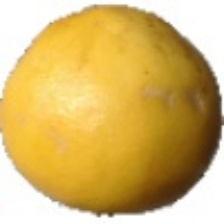grapes: (24, 44, 191, 191)
